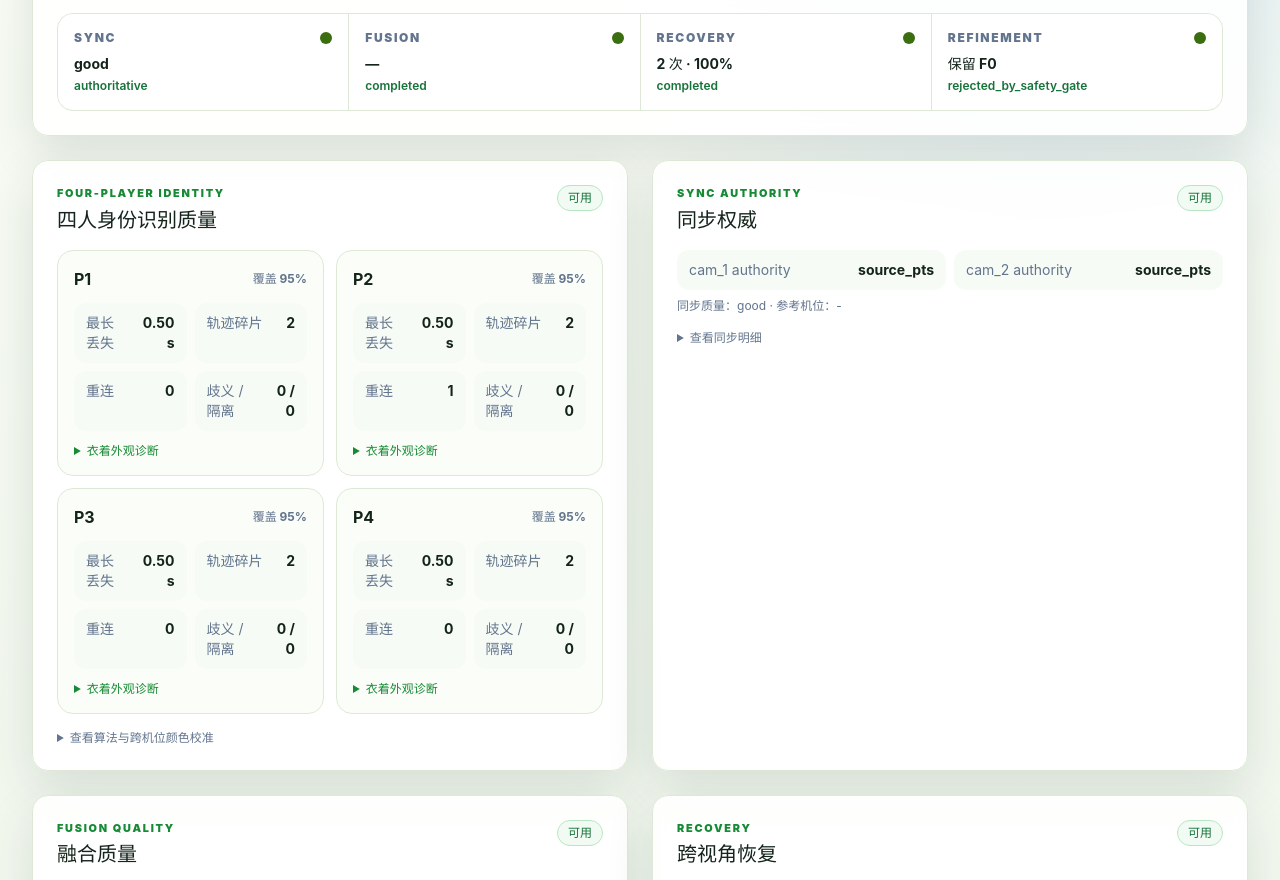
Test: MultiviewObservabilityPage › shows per-player continuity and clothing appearance diagnostics
(page scrolled)
Expected: the heading "四人身份识别质量" is shown, [57,206,225,234]
Expected: the text "P2" is shown, [353,267,374,291]
Click the heading "衣着外观诊断" below "P2". click: (402, 450)
box: [366,443,438,458]
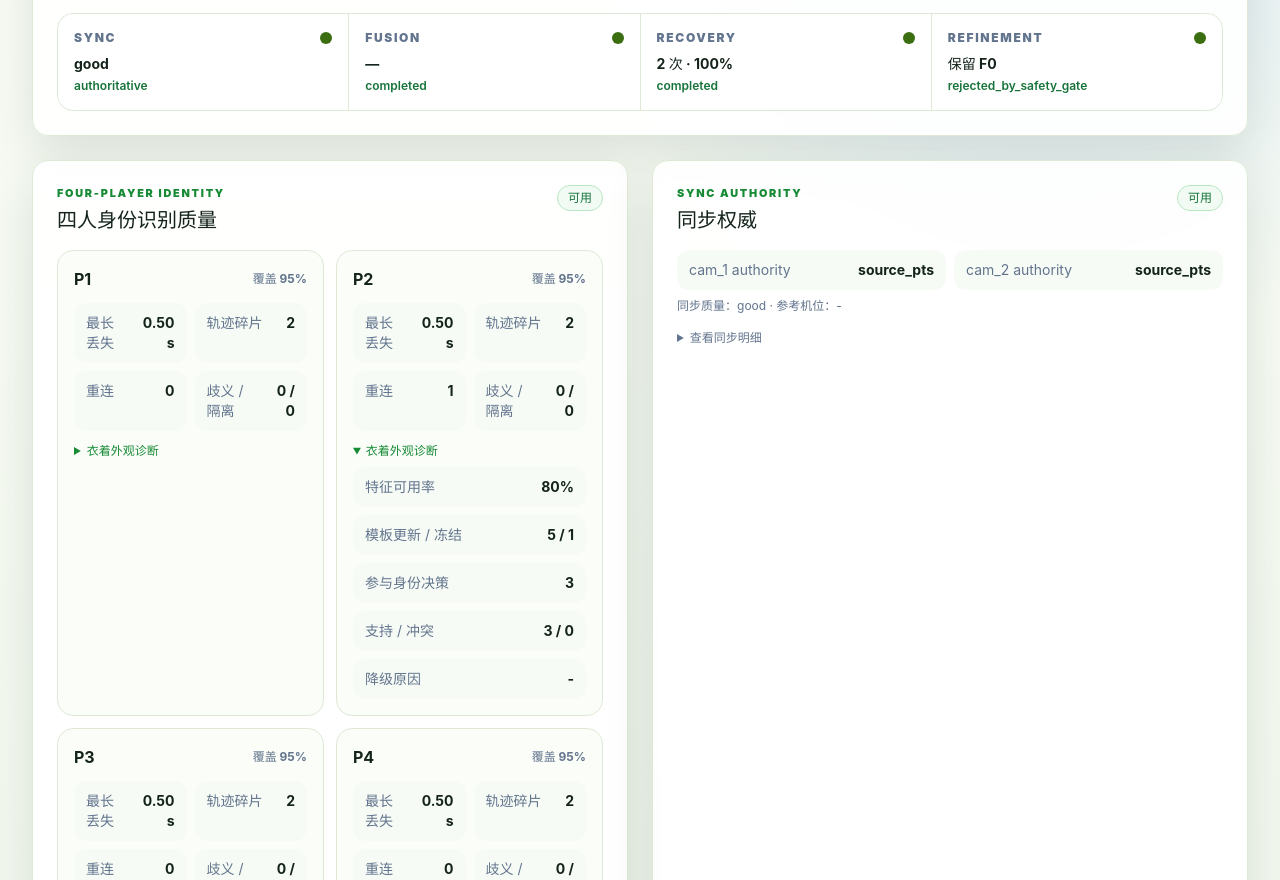
Expected: the text "80%" is shown 4 times
Expected: the text "3 / 0" is shown 4 times
